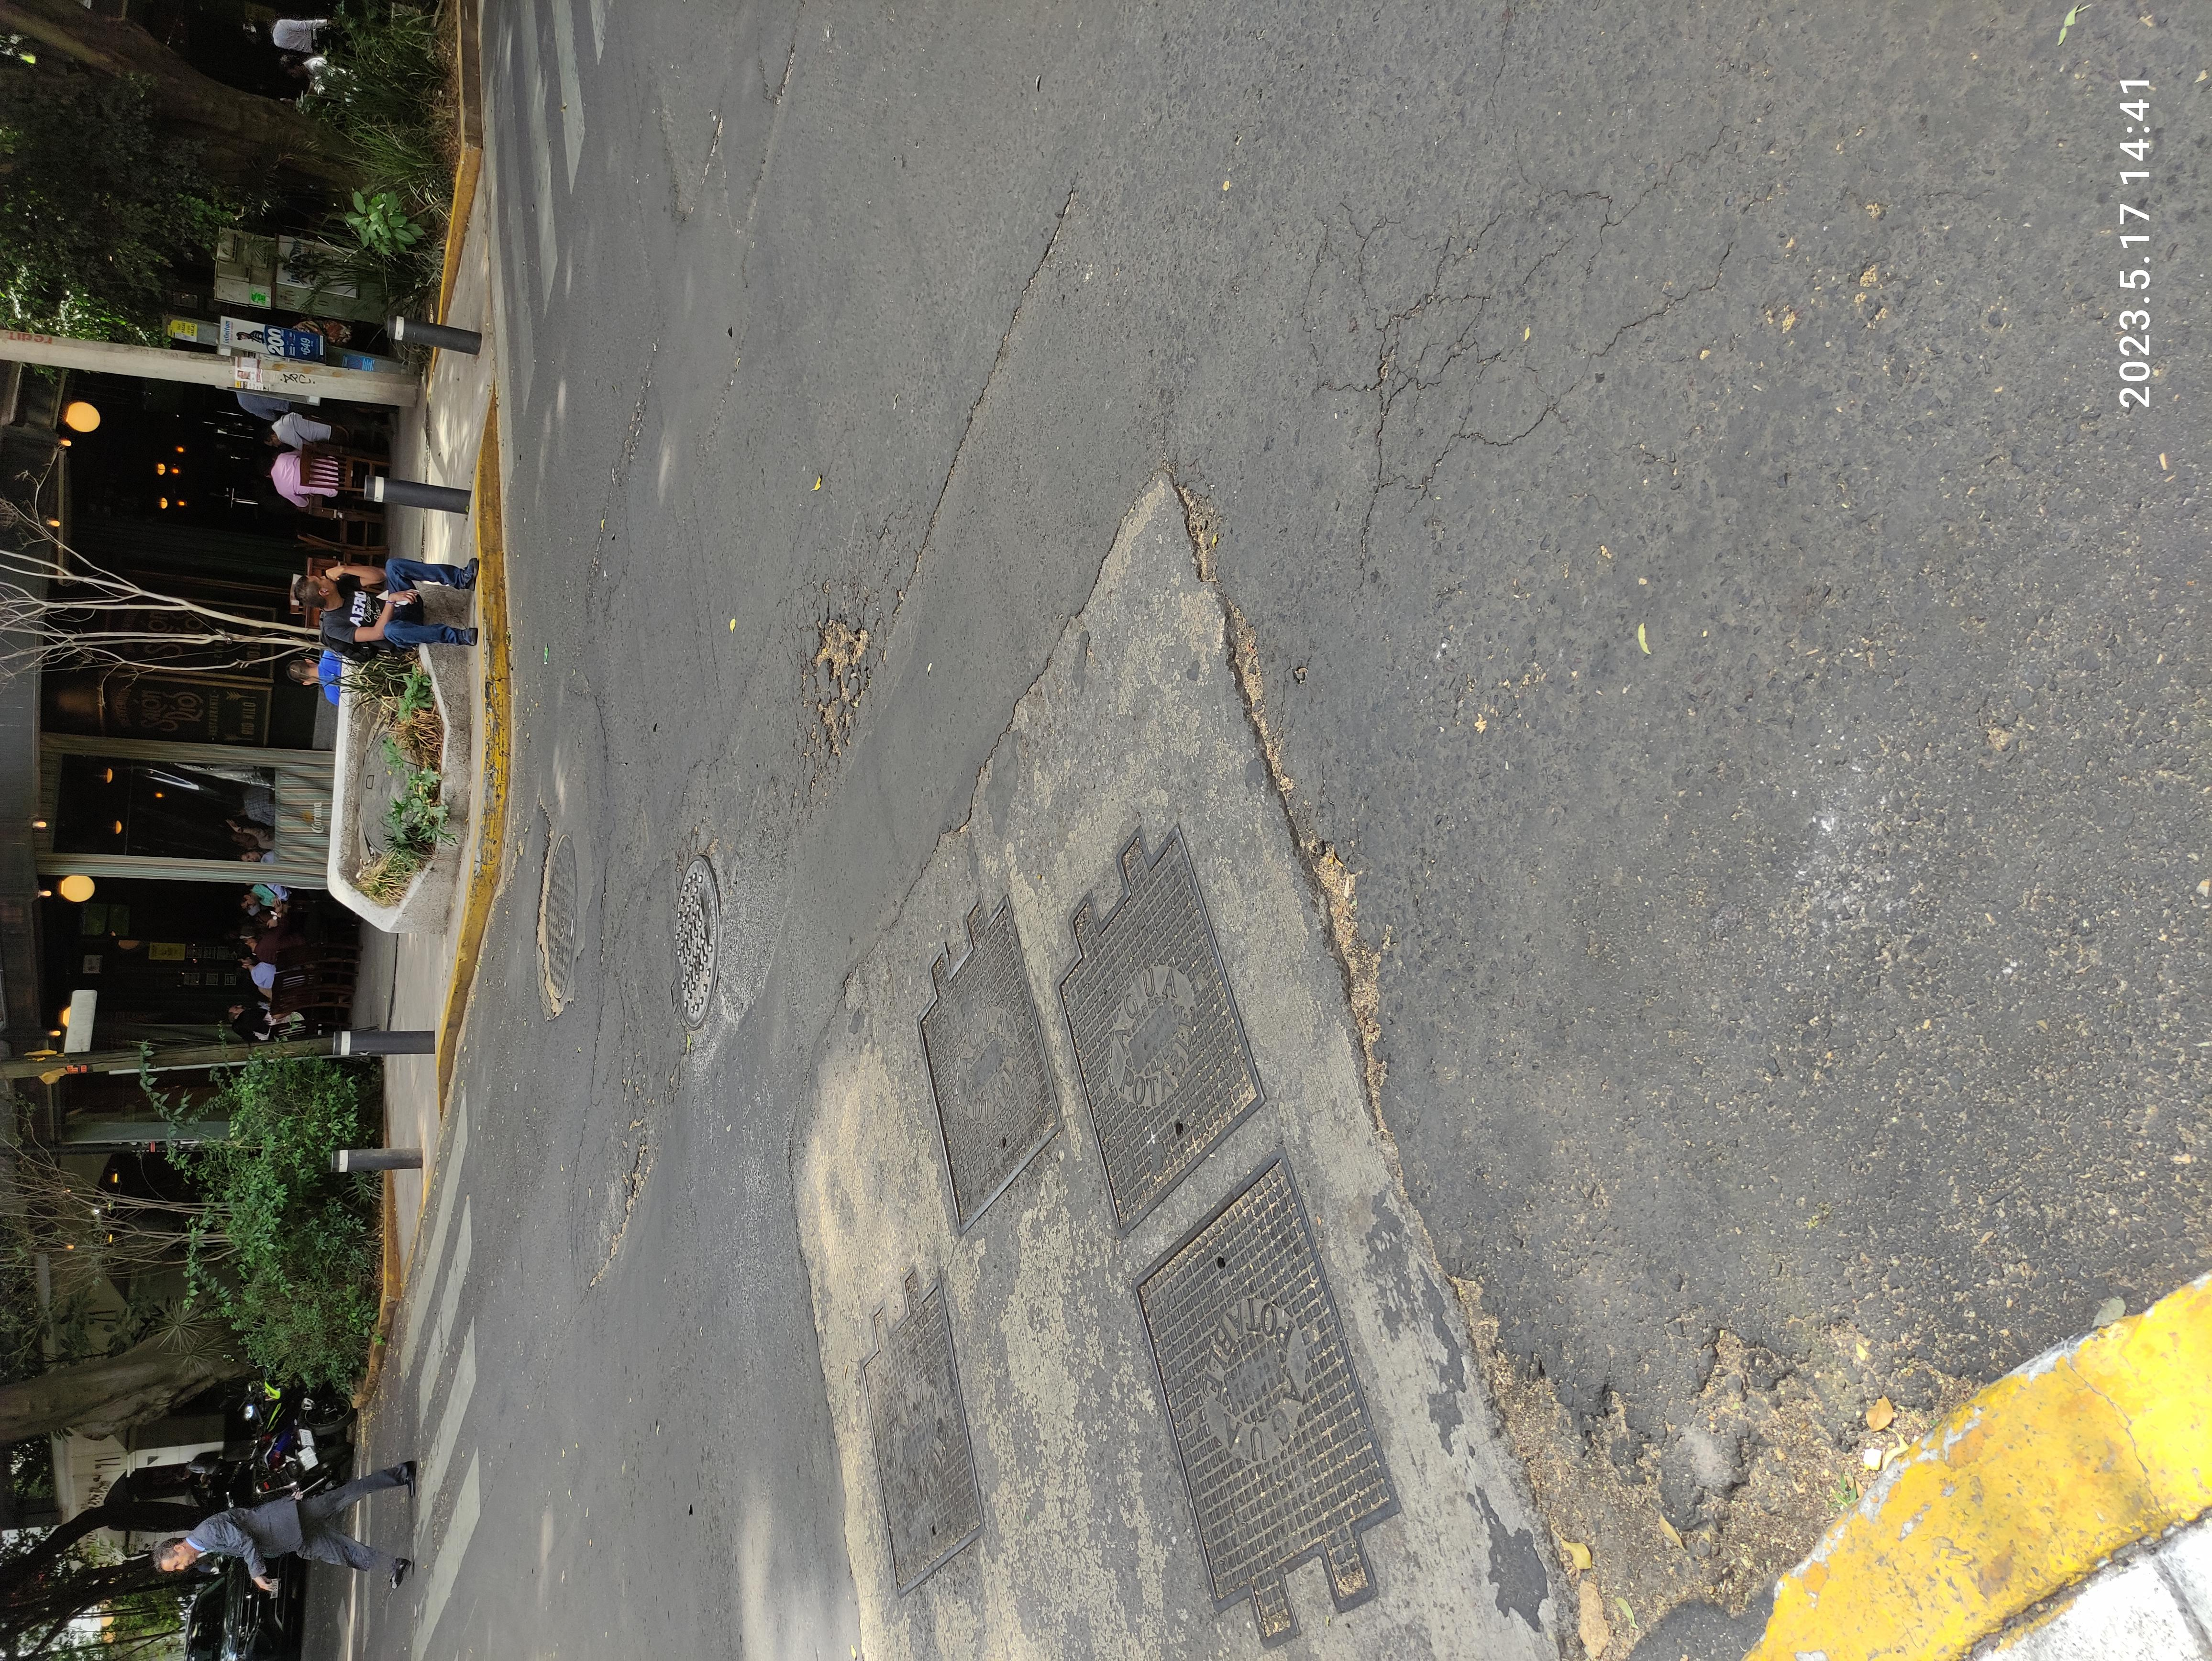alligator-crack: (1443, 968, 2025, 1258), (1176, 576, 1450, 665)
pothole: (0, 1080, 516, 1438)
